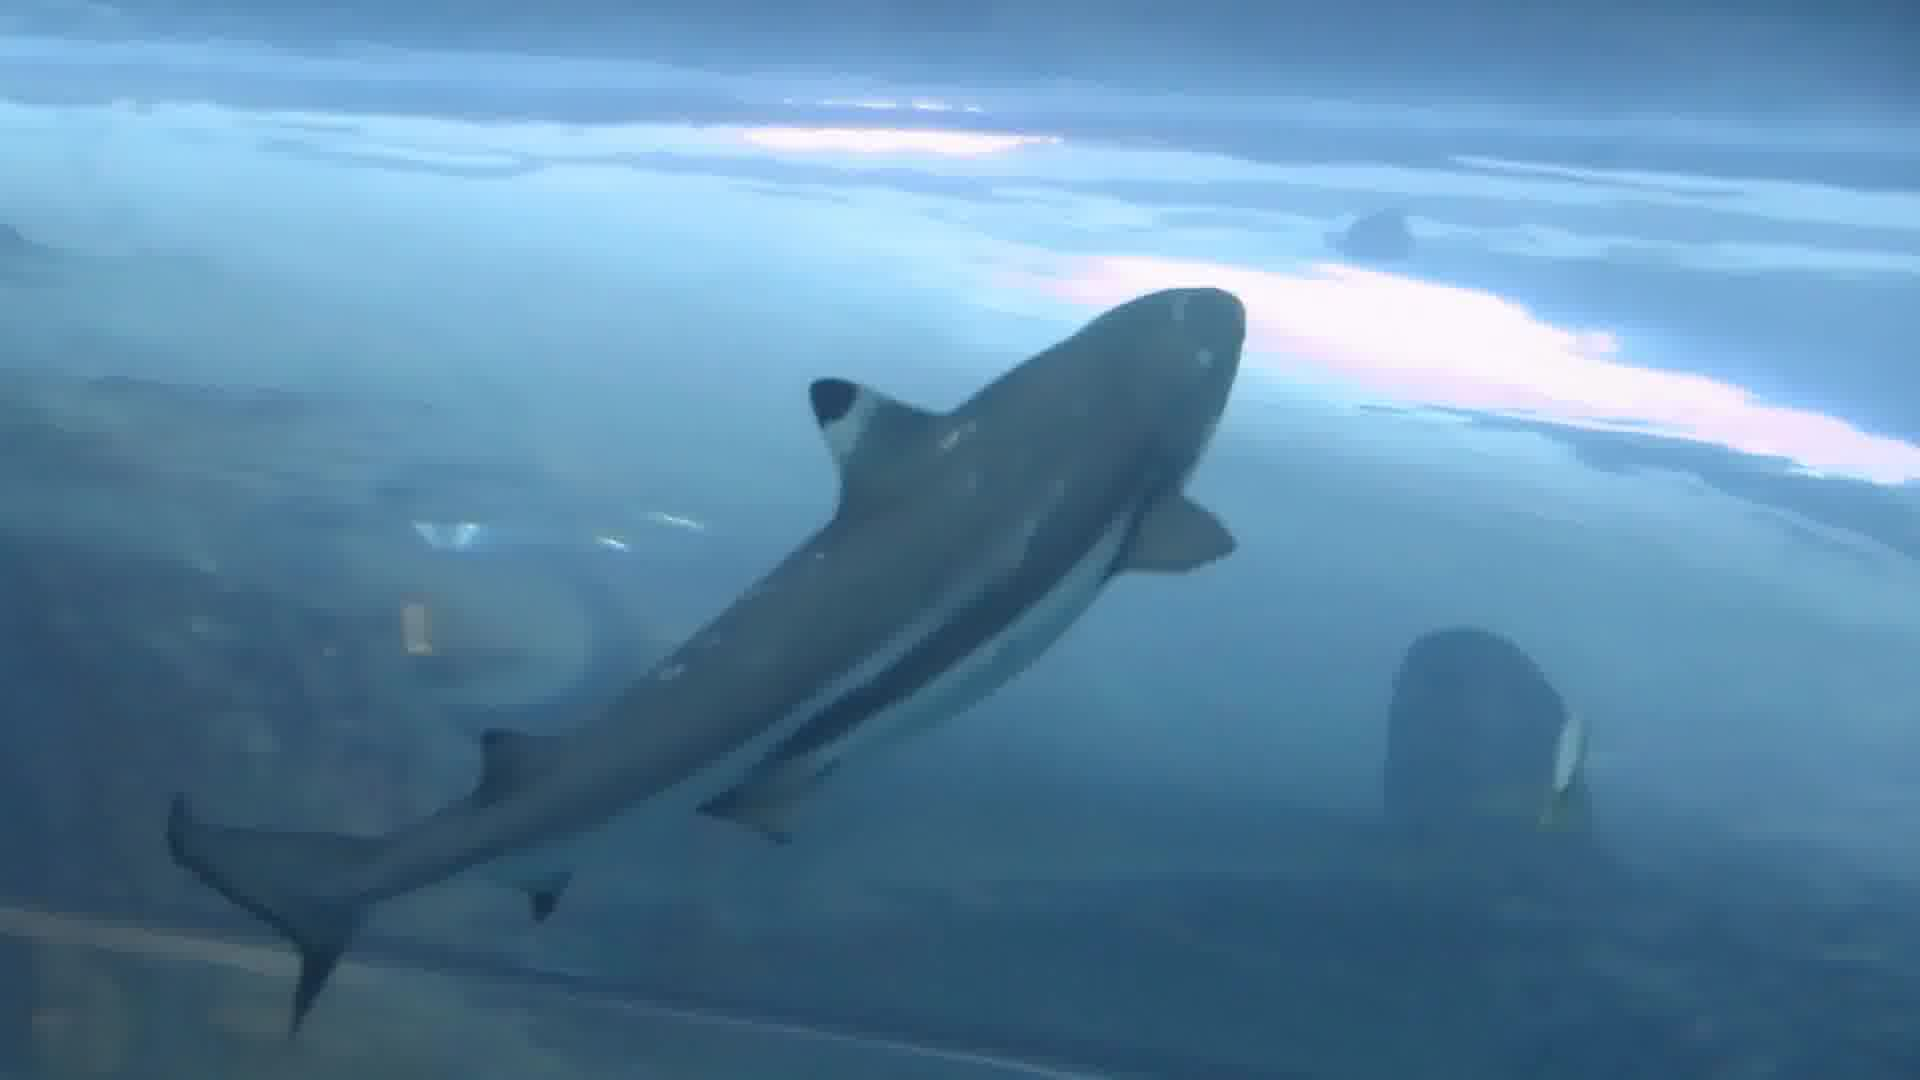Carcharhinus melanopterus: (7, 268, 1316, 1026)
